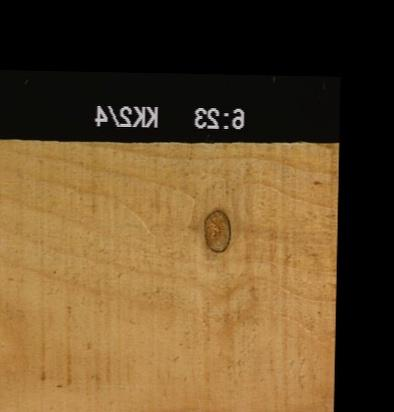dry_knot: (200, 206, 231, 252)
